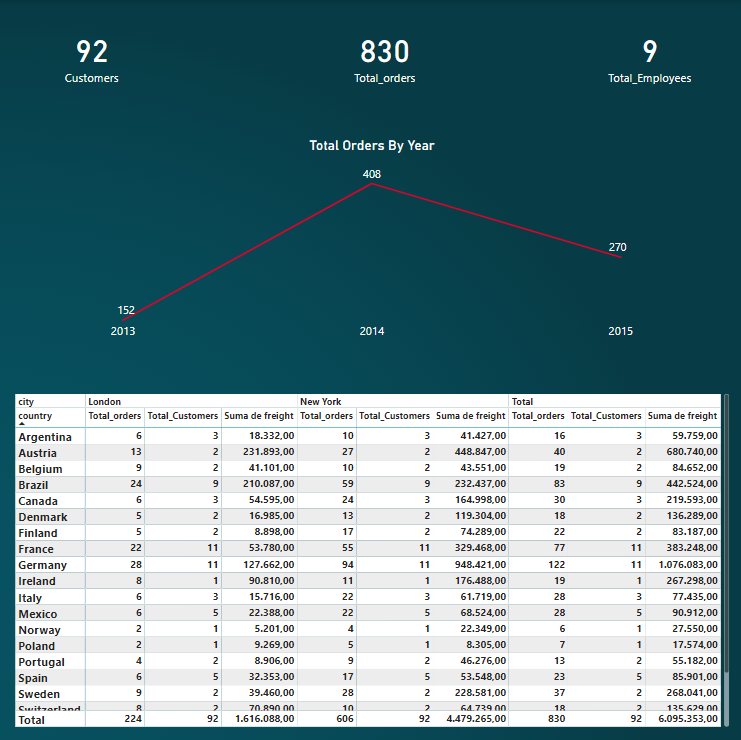

Layout of this report page (visuals, bound fields, positions):
{"tool":"powerbi","page":{"name":"General Summary","canvas":[1300,1300],"ordinal":0},"visuals":[{"type":"card","fields":{"Values":["orders.Total_orders"]},"box":[572.9,30.5,196,130.7],"z":0},{"type":"pivotTable","fields":{"Rows":["customers.country"],"Columns":["employees.city"],"Values":["orders.Total_orders","customers.Total_Customers","Sum(orders.freight)"]},"box":[22.1,682.2,1254.1,589.5],"z":1000},{"type":"lineChart","title":"Total Orders By Year","fields":{"Y":["orders.Total_orders"],"Category":["calendar.Year Jerarquía.Year"]},"box":[187.3,239.6,921.4,361.6],"z":2000},{"type":"card","fields":{"Values":["customers.Total_Customers"]},"box":[61,30.5,198.2,130.7],"z":3000},{"type":"card","fields":{"Values":["employees.Total_Employees"]},"box":[1034.7,30.5,196,130.7],"z":4000}]}

Visuals, with their boxes in screenshot pixels (x1, y1, x2, y2), scaled from the page's 1300x1300 canvas onto the 741x740 screenshot:
card - orders.Total_orders: detection(327, 17, 438, 92)
pivotTable - customers.country x employees.city: detection(13, 388, 727, 724)
"Total Orders By Year" lineChart: detection(107, 136, 632, 342)
card - customers.Total_Customers: detection(35, 17, 148, 92)
card - employees.Total_Employees: detection(590, 17, 701, 92)
